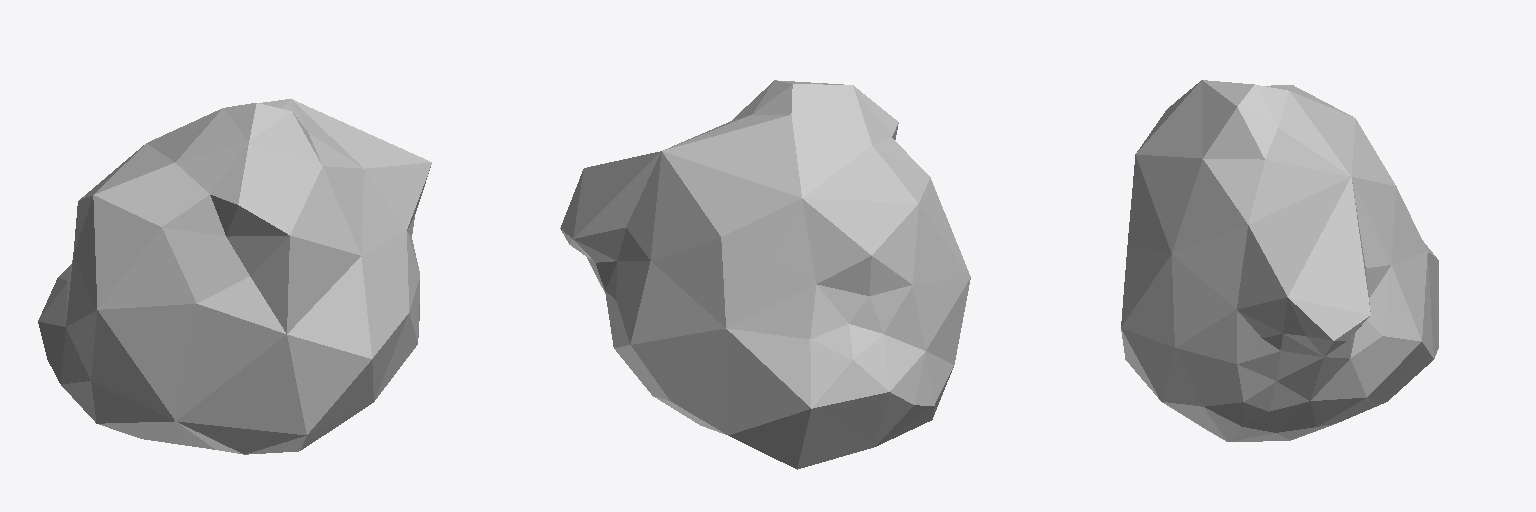
Rendered from Rock1.obj.
The picture shows the model from 3 angles: view 1: azimuth 30°, elevation 25°; view 2: azimuth 150°, elevation 25°; view 3: azimuth 270°, elevation 25°; orthographic projection.
Size of the model in its own units: 3.35 by 2.93 by 2.55.